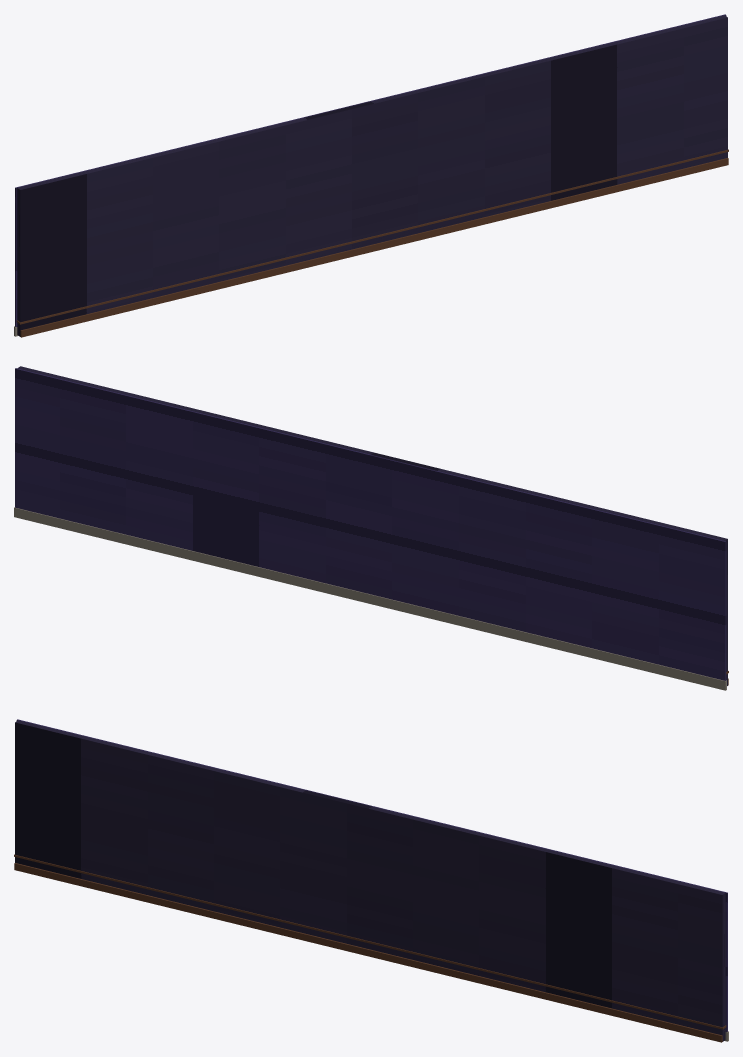
The model's file is back.glb.
The picture shows the model from 3 angles, top to bottom: view 1: azimuth 30°, elevation 25°; view 2: azimuth 150°, elevation 25°; view 3: azimuth 330°, elevation 25°; orthographic projection.
Visible parts, largest first — view 1: Box1, Box2, Box5, Box6, Box3; view 2: Box3, Box4, Box1; view 3: Box1, Box2, Box6, Box5, Box3.
Boxes of the visible parts, <box> form: Box1: <box>17,15,727,336</box>; Box2: <box>20,158,728,337</box>; Box5: <box>17,152,727,335</box>; Box6: <box>16,149,728,324</box>; Box3: <box>15,14,726,326</box>; Box3: <box>15,368,726,680</box>; Box4: <box>14,507,726,690</box>; Box1: <box>17,366,727,685</box>; Box1: <box>15,720,725,1041</box>; Box2: <box>14,863,722,1042</box>; Box6: <box>14,854,726,1029</box>; Box5: <box>15,857,725,1040</box>; Box3: <box>16,719,727,1031</box>.
Bounding box in the file's own units: 20.27 × 4.04 × 0.25.
4 materials, 2 textured.
